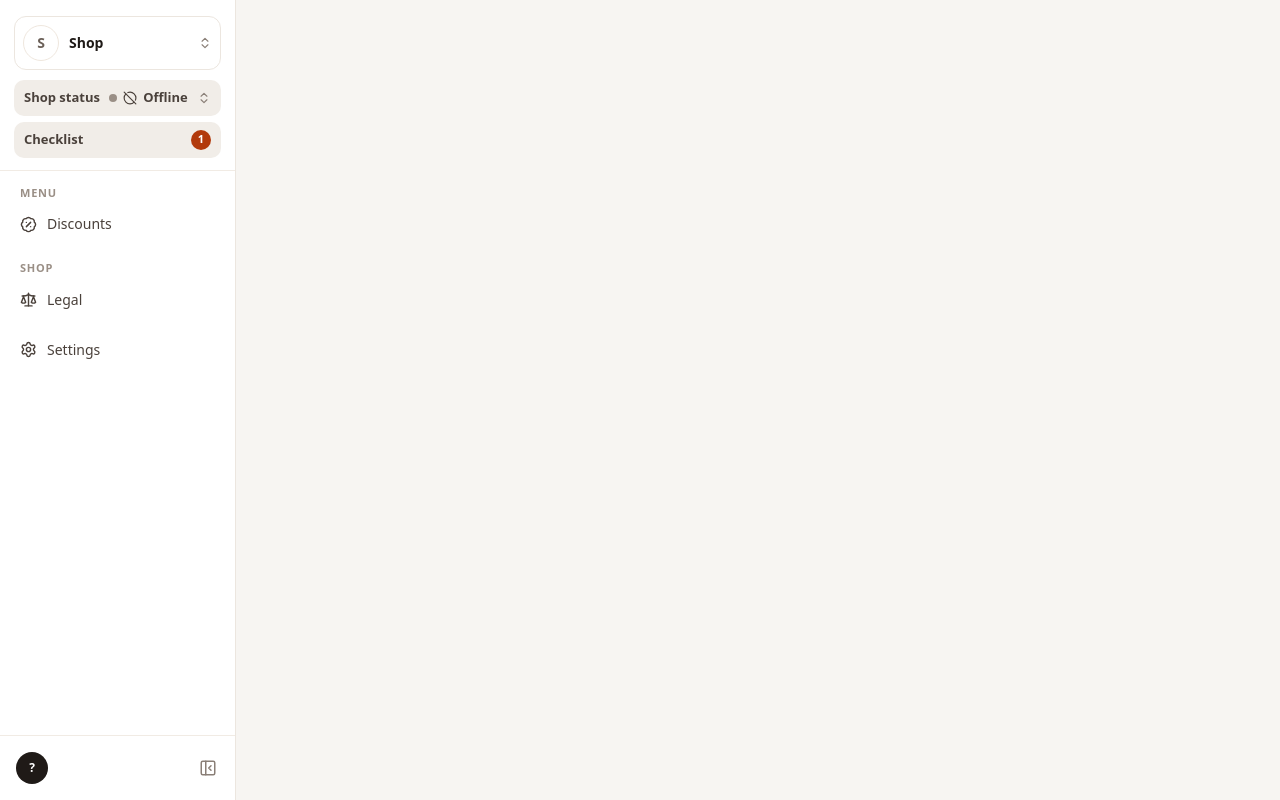
Sidebar shop status menu with open checklist items › closes on an outside pointerdown but not on the trigger itself
Click the button "Shop status Offline" at (118, 98), box 14,80 -> 221,116
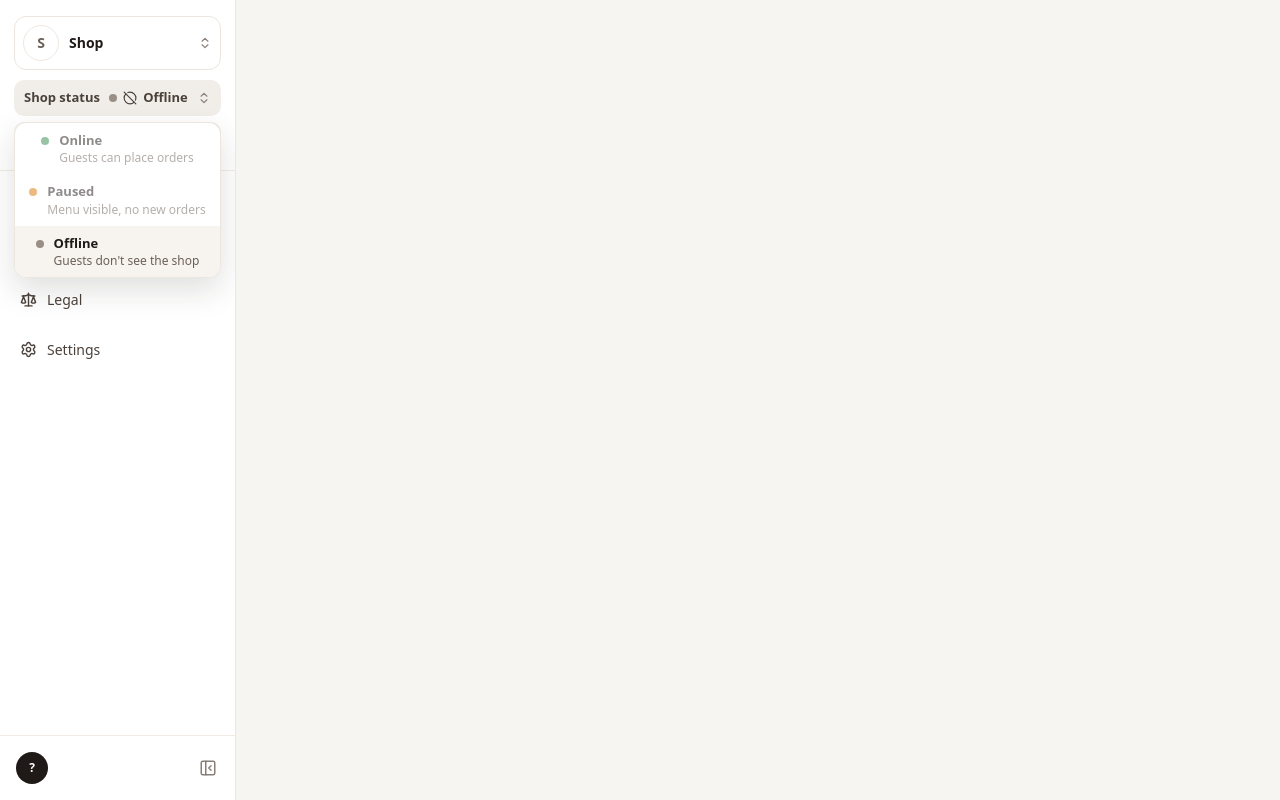
Click the option "Online Guests can place orders" at (118, 148), box 15,122 -> 220,174
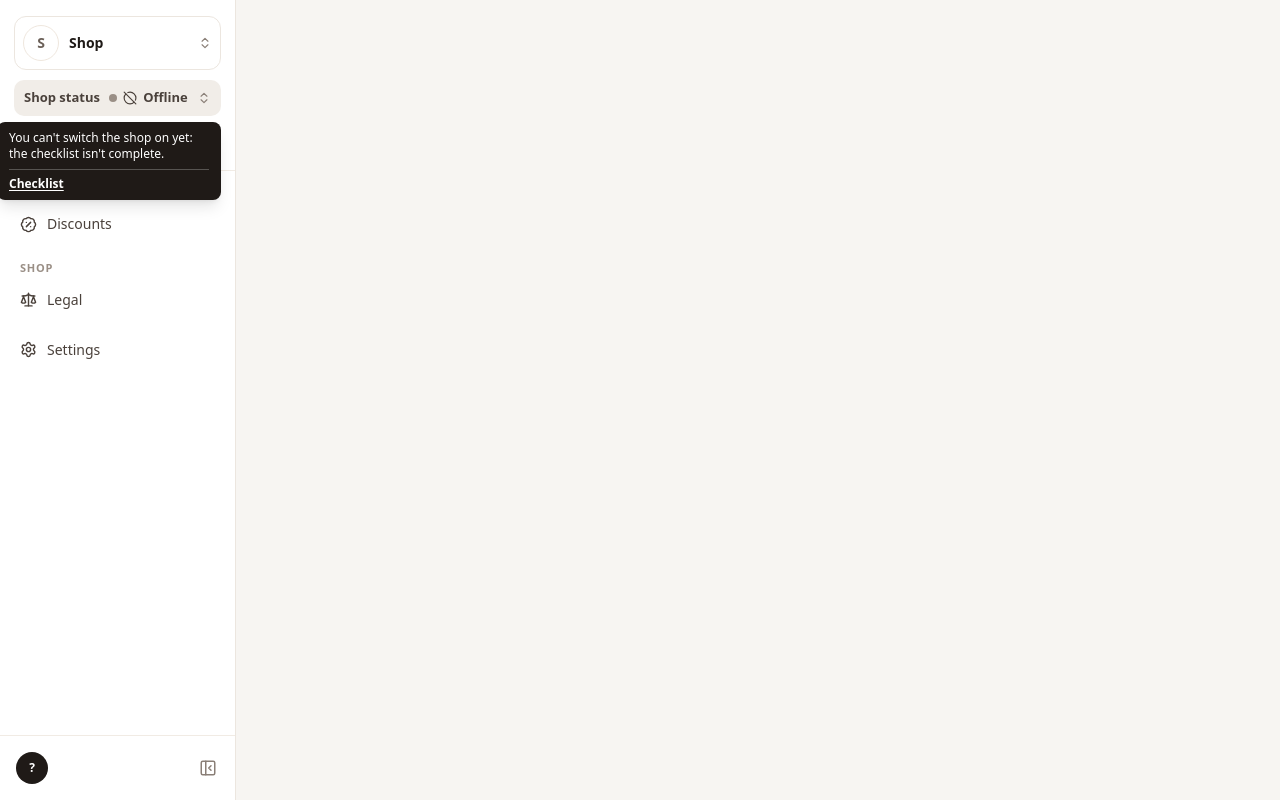
Press the mouse on the button "Shop status Offline" at (118, 98), box 14,80 -> 221,116
Expected: the message "You can't switch the shop on yet: the checklist isn't complete. Checklist" is shown, 0,122 -> 221,200
Press the mouse on the element that starts with "Shop" at (640, 400), box 0,0 -> 1279,799
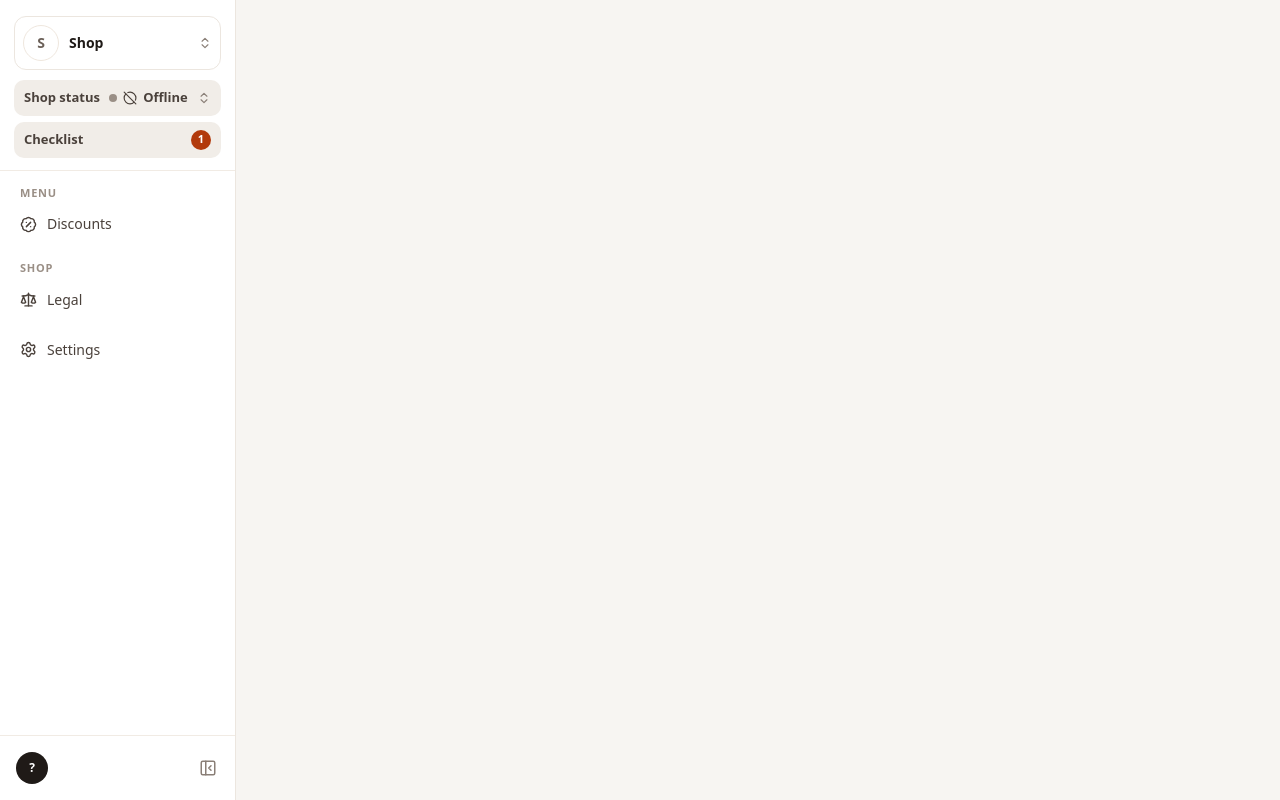
Expected: the message "You can't switch the shop on yet: the checklist isn't complete. Checklist" is gone
